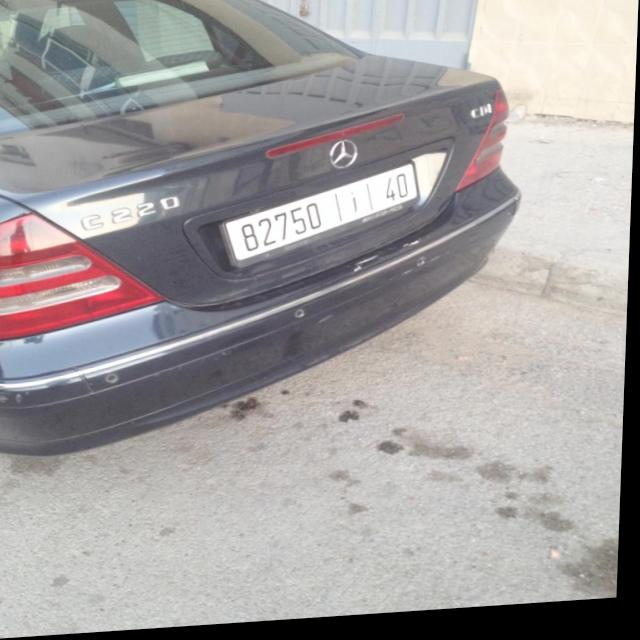License-Plate: (226, 171, 420, 264)
